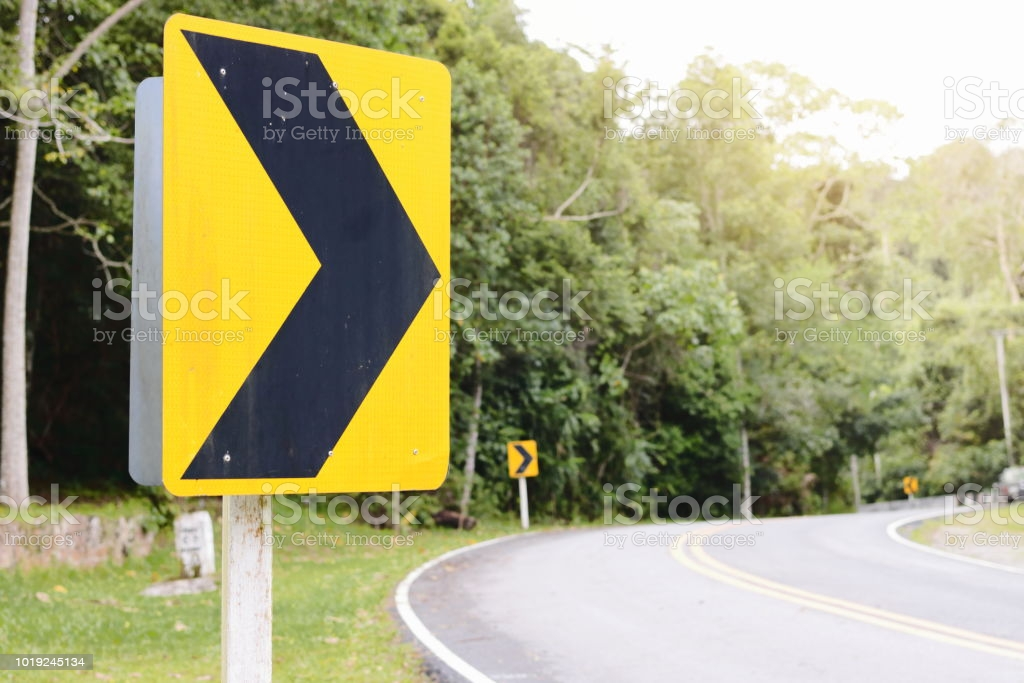left turn: (903, 475, 919, 496)
right turn: (162, 12, 448, 489), (508, 440, 537, 476)
